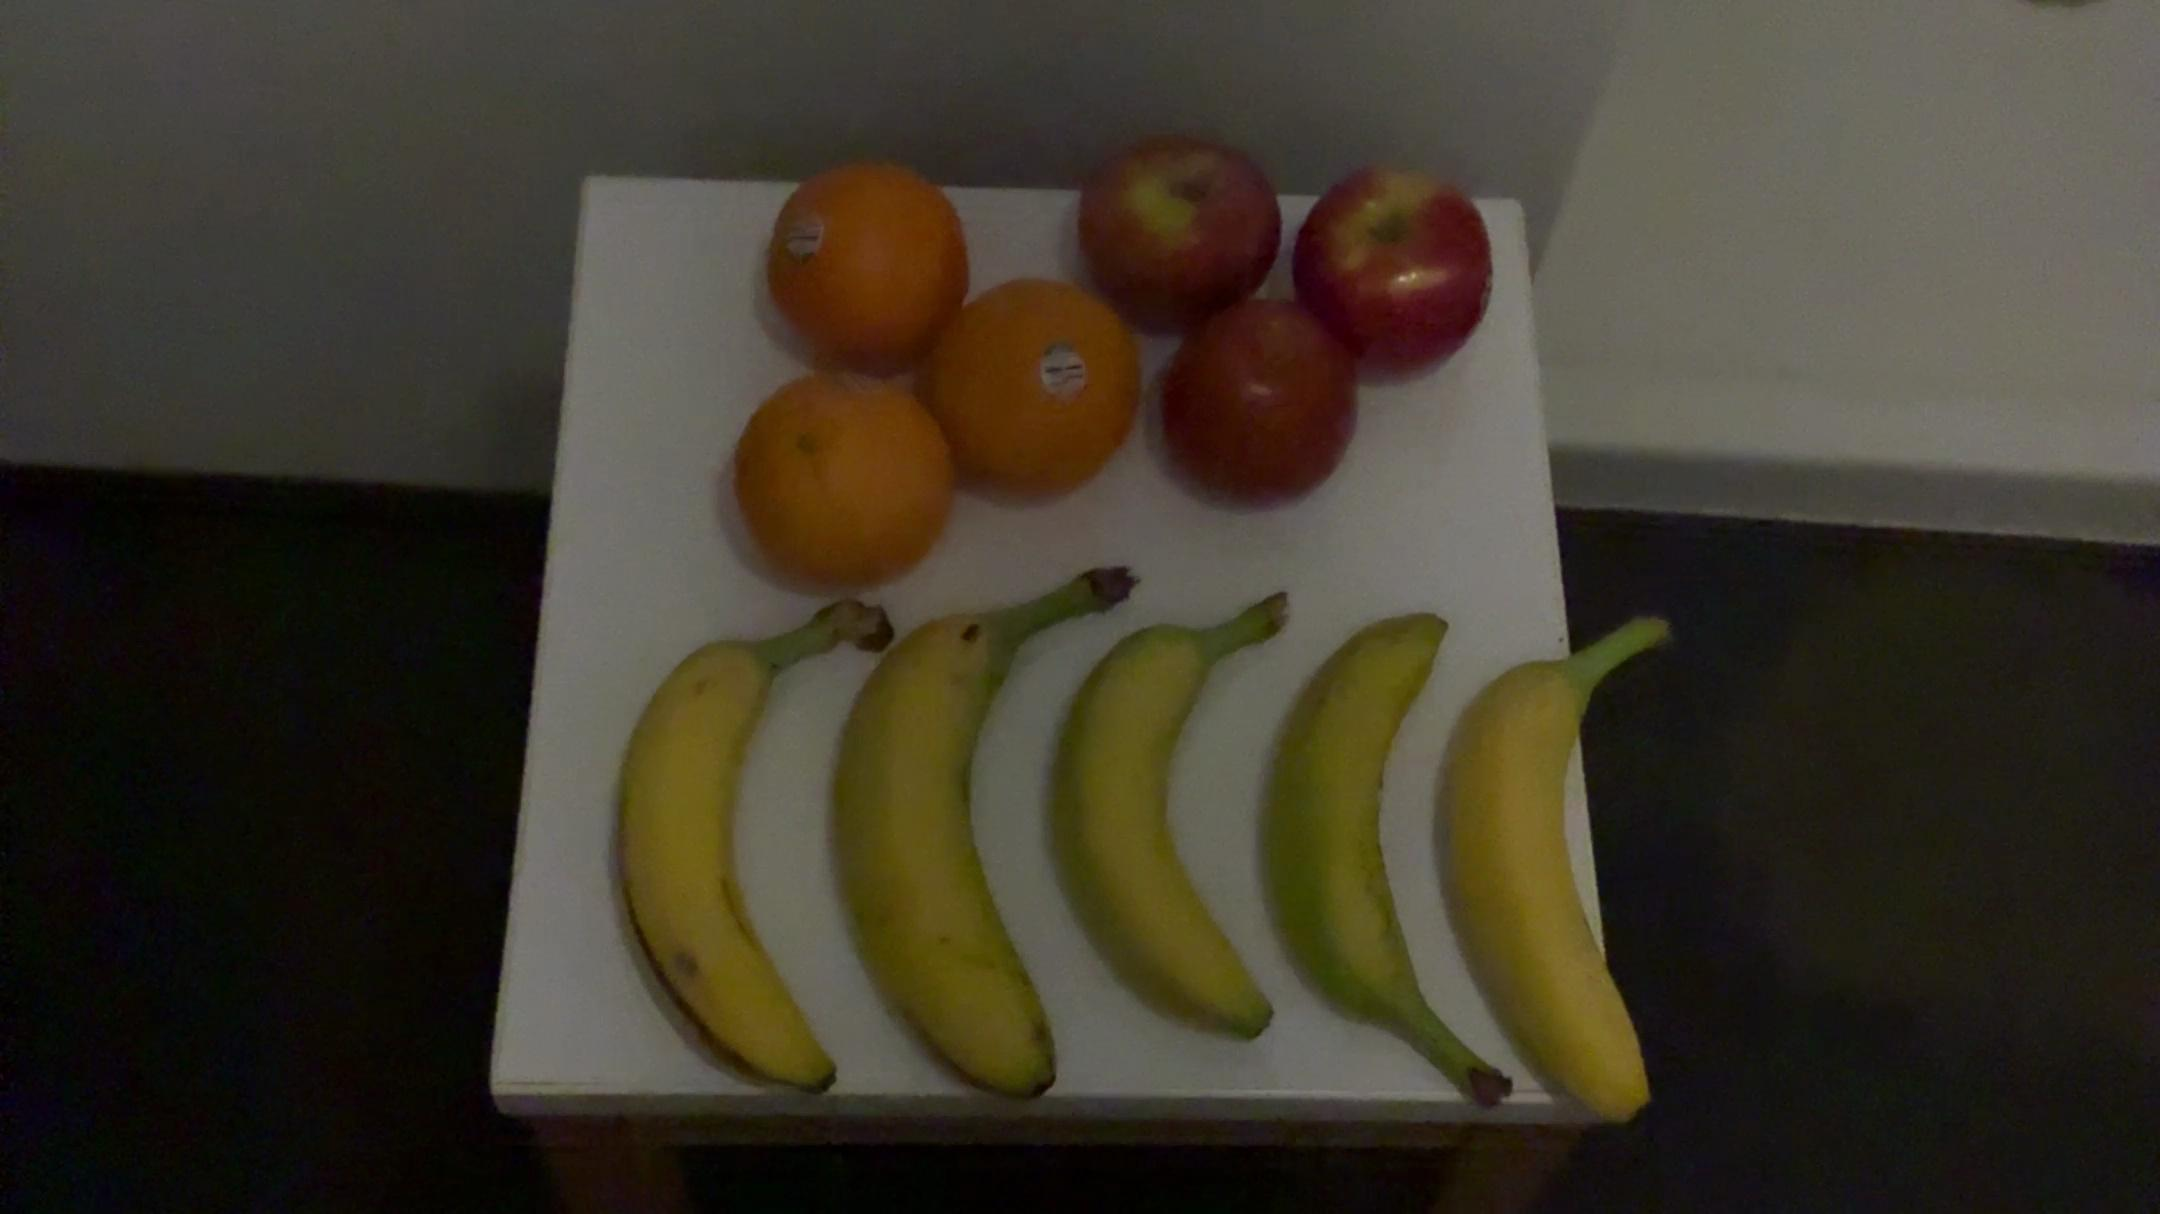apple: (1151, 303, 1363, 519), (1289, 157, 1500, 368), (1077, 122, 1277, 338)
banana: (825, 551, 1145, 1100), (1426, 589, 1710, 1147), (596, 594, 896, 1121), (1248, 591, 1524, 1129), (1033, 588, 1303, 1054)
orange: (731, 359, 961, 598), (754, 142, 972, 378), (917, 283, 1136, 499)
